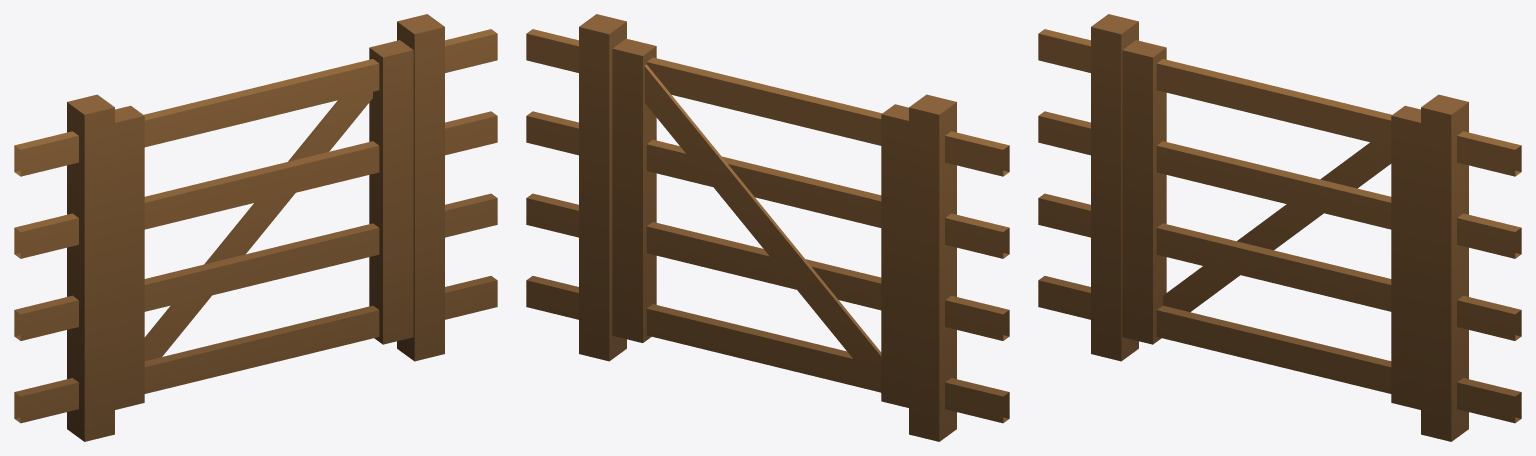
Rendered from Bld_01_Fence_Wood_Gate_Single_Short_Sides_01.obj.
3 views of the same model, side by side, from view 1: azimuth 30°, elevation 25°; view 2: azimuth 150°, elevation 25°; view 3: azimuth 330°, elevation 25° (orthographic).
Visible parts, largest first — view 1: Bld_01_Fence_Wood_Gate_Single_Short_01, Bld_01_Fence_Wood_Gate_Single_Short_Sides_01; view 2: Bld_01_Fence_Wood_Gate_Single_Short_01, Bld_01_Fence_Wood_Gate_Single_Short_Sides_01; view 3: Bld_01_Fence_Wood_Gate_Single_Short_01, Bld_01_Fence_Wood_Gate_Single_Short_Sides_01.
Part boxes in pixels (x1,y1,x2,y2): Bld_01_Fence_Wood_Gate_Single_Short_01: (115,40,413,409); Bld_01_Fence_Wood_Gate_Single_Short_Sides_01: (14,14,497,441); Bld_01_Fence_Wood_Gate_Single_Short_01: (612,38,908,407); Bld_01_Fence_Wood_Gate_Single_Short_Sides_01: (526,14,1009,441); Bld_01_Fence_Wood_Gate_Single_Short_01: (1122,40,1420,409); Bld_01_Fence_Wood_Gate_Single_Short_Sides_01: (1038,14,1521,441).
Bounding box in the file's own units: 1.8 × 1.18 × 0.1153.
Materials: 1 (1 with a texture image).
